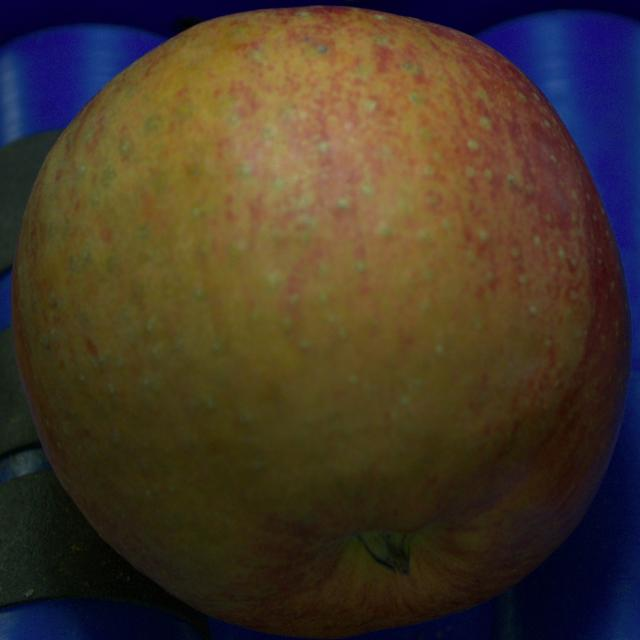apple: (12, 6, 631, 637)
